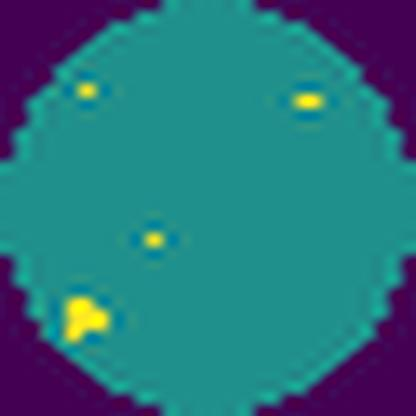Loc: (66, 294, 109, 342)
